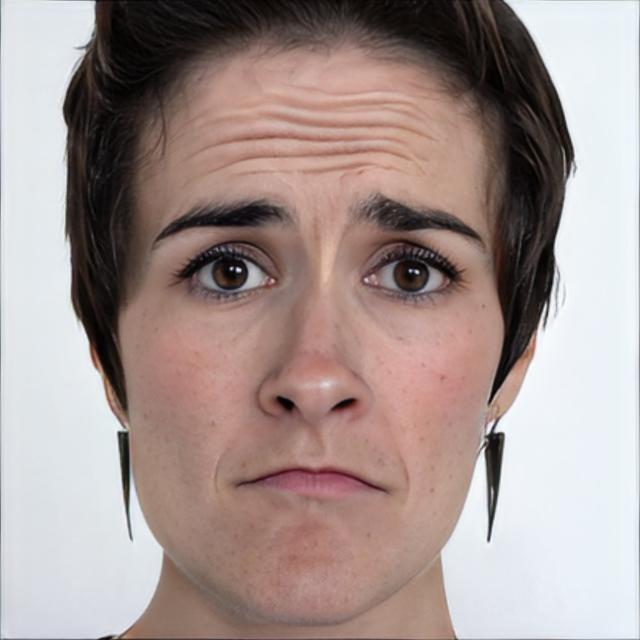sad: (117, 24, 508, 625)
